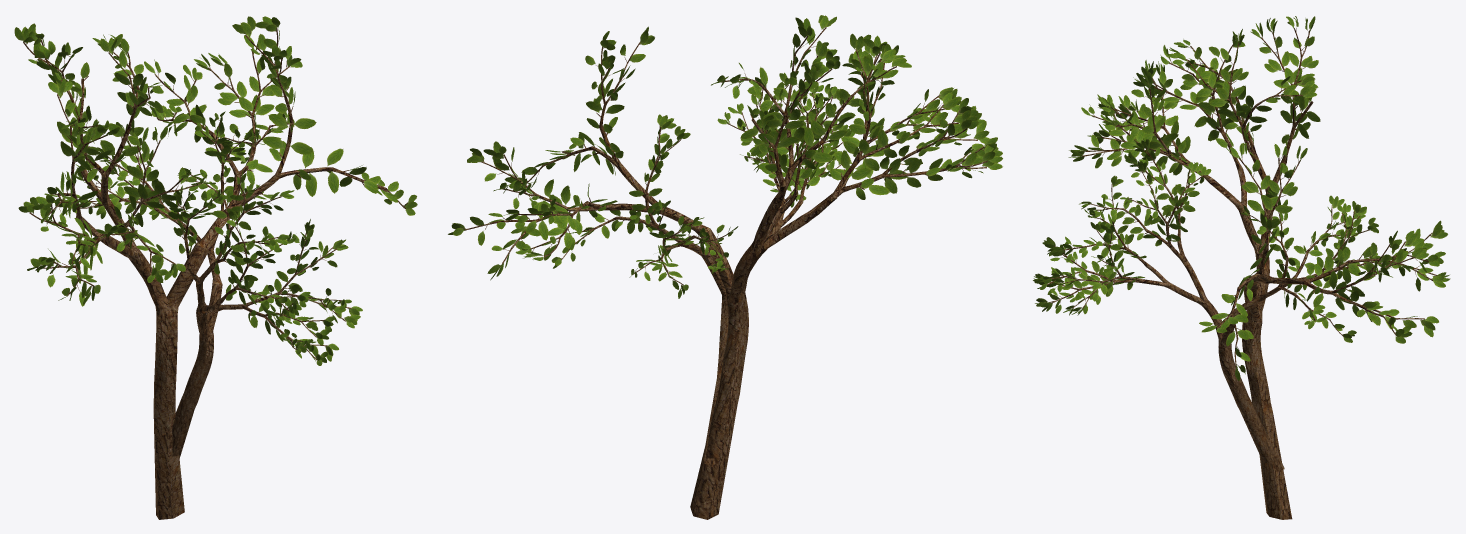
The model's file is Bush2_Tall.fbx.
3 renders of one model, left to right at view 1: azimuth 30°, elevation 25°; view 2: azimuth 150°, elevation 25°; view 3: azimuth 270°, elevation 25°, orthographic. The views are drawn at different scales.
Visible parts, largest first — view 1: Bush2_Tall; view 2: Bush2_Tall; view 3: Bush2_Tall.
Boxes of the visible parts, bbox=[...] form: Bush2_Tall: bbox=[14, 16, 417, 519]; Bush2_Tall: bbox=[448, 15, 1002, 519]; Bush2_Tall: bbox=[1033, 16, 1450, 519].
Bounding box in the file's own units: 265 × 288 × 241.
